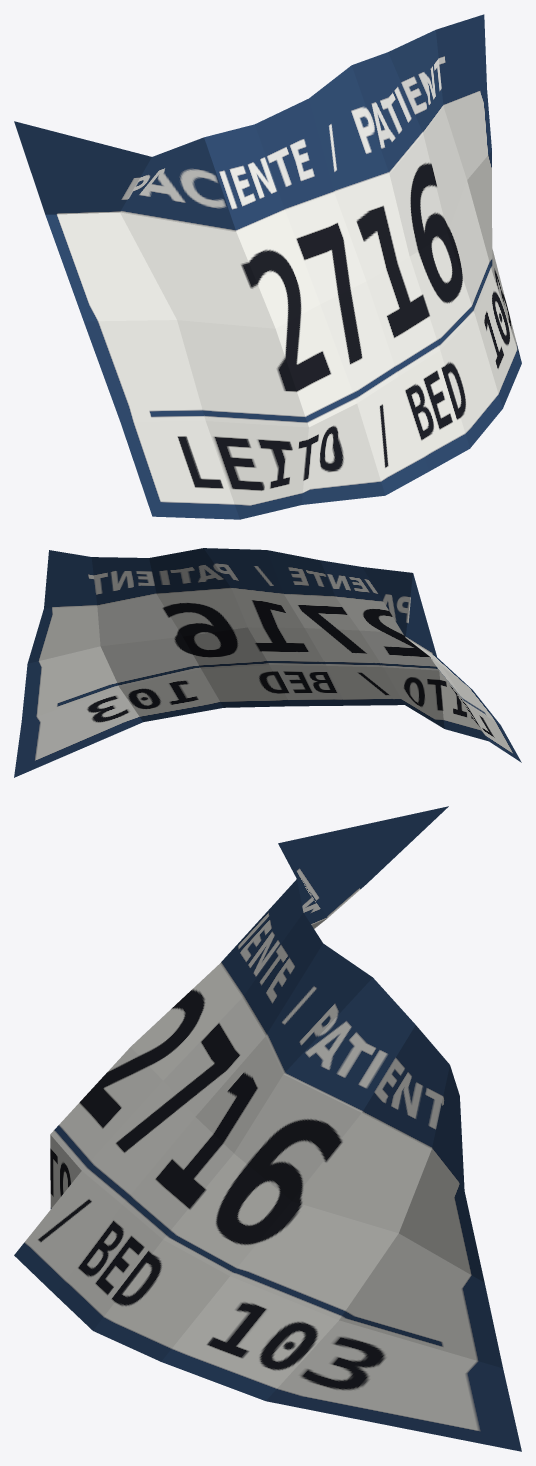
The model's file is SM_Helena2_PatientAccessories.fbx.
3 views of the same model, one above another, from view 1: azimuth 30°, elevation 25°; view 2: azimuth 150°, elevation 25°; view 3: azimuth 270°, elevation 25° (orthographic). The views are drawn at different scales.
Visible parts, largest first — view 1: PatientTag; view 2: PatientTag; view 3: PatientTag.
Part boxes in pixels (x1,y1,x2,y2): PatientTag: [14, 14, 521, 519]; PatientTag: [14, 548, 521, 777]; PatientTag: [14, 806, 521, 1451].
Size of the model in its own units: 0.1186 by 0.069 by 0.0872.
1 material, 1 textured.
